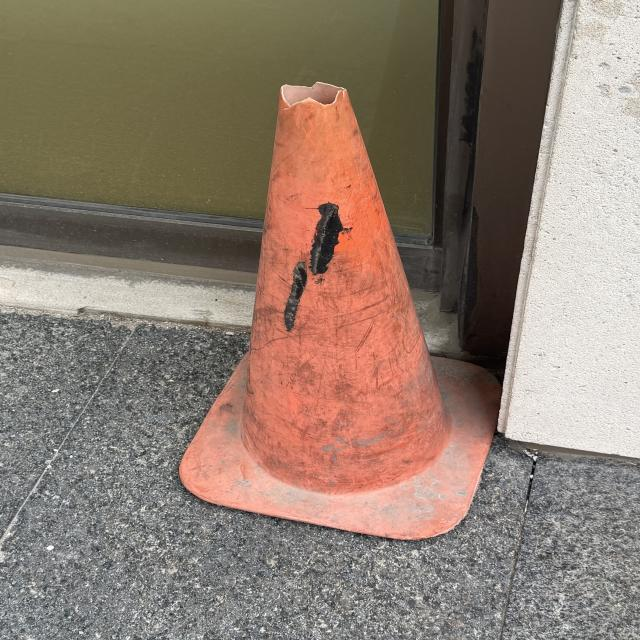Traffic Cone: (174, 80, 502, 542)
